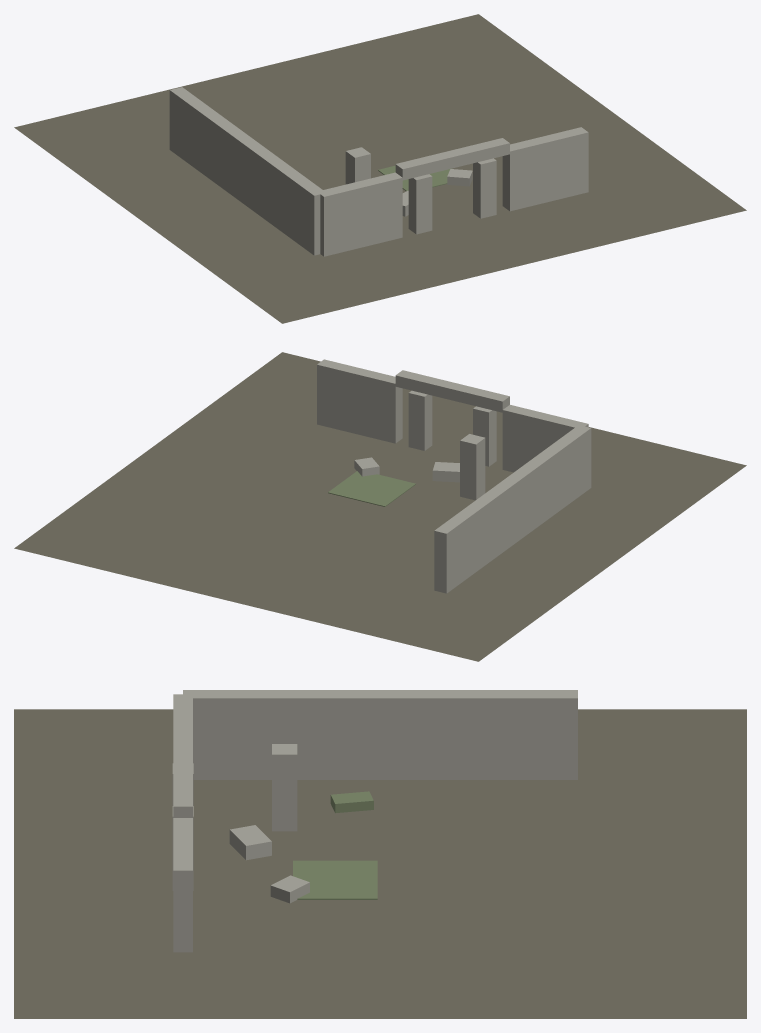
Rendered from baked.glb.
The picture shows the model from 3 angles, top to bottom: view 1: azimuth 30°, elevation 25°; view 2: azimuth 150°, elevation 25°; view 3: azimuth 270°, elevation 25°; orthographic projection. The views are drawn at different scales.
Visible parts, largest first — view 1: ground, wall_side, wall_back_R, wall_back_L, wall_back_top, wall_back_pier_L, wall_back_pier_R, pillar; view 2: ground, wall_side, wall_back_R, wall_back_L, wall_back_top, moss_patch, pillar, wall_back_pier_R, wall_back_pier_L, rubble_1; view 3: ground, wall_side, moss_patch, wall_back_R, pillar, wall_back_top, rubble_1, wall_back_L, rubble_3, rubble_2.
Part boxes in pixels (bbox=[...]): ground: bbox=[14, 14, 746, 323]; wall_side: bbox=[169, 87, 326, 255]; wall_back_R: bbox=[502, 127, 588, 211]; wall_back_L: bbox=[317, 172, 402, 256]; wall_back_top: bbox=[395, 138, 509, 180]; wall_back_pier_L: bbox=[408, 174, 432, 234]; wall_back_pier_R: bbox=[473, 158, 496, 218]; pillar: bbox=[345, 147, 370, 184]; ground: bbox=[14, 352, 746, 661]; wall_side: bbox=[434, 425, 591, 593]; wall_back_R: bbox=[317, 359, 402, 443]; wall_back_L: bbox=[502, 405, 588, 472]; wall_back_top: bbox=[395, 370, 509, 412]; moss_patch: bbox=[328, 471, 415, 506]; pillar: bbox=[460, 434, 485, 500]; wall_back_pier_R: bbox=[408, 390, 432, 450]; wall_back_pier_L: bbox=[473, 406, 496, 466]; rubble_1: bbox=[432, 462, 459, 482]; ground: bbox=[14, 709, 746, 1018]; wall_side: bbox=[183, 690, 577, 779]; moss_patch: bbox=[293, 860, 377, 899]; wall_back_R: bbox=[173, 818, 192, 952]; pillar: bbox=[272, 744, 297, 831]; wall_back_top: bbox=[173, 735, 192, 817]; rubble_1: bbox=[229, 825, 271, 860]; wall_back_L: bbox=[173, 694, 192, 734]; rubble_3: bbox=[330, 791, 373, 813]; rubble_2: bbox=[270, 875, 309, 903].
Size of the model in its own units: 26 by 3.65 by 26.
